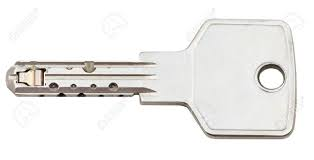key: (5, 17, 304, 143)
